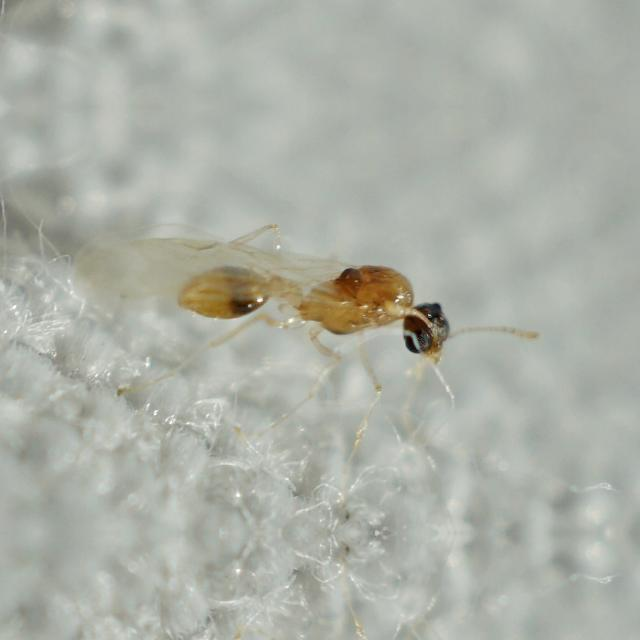Temnothorax: (154, 220, 488, 382)
